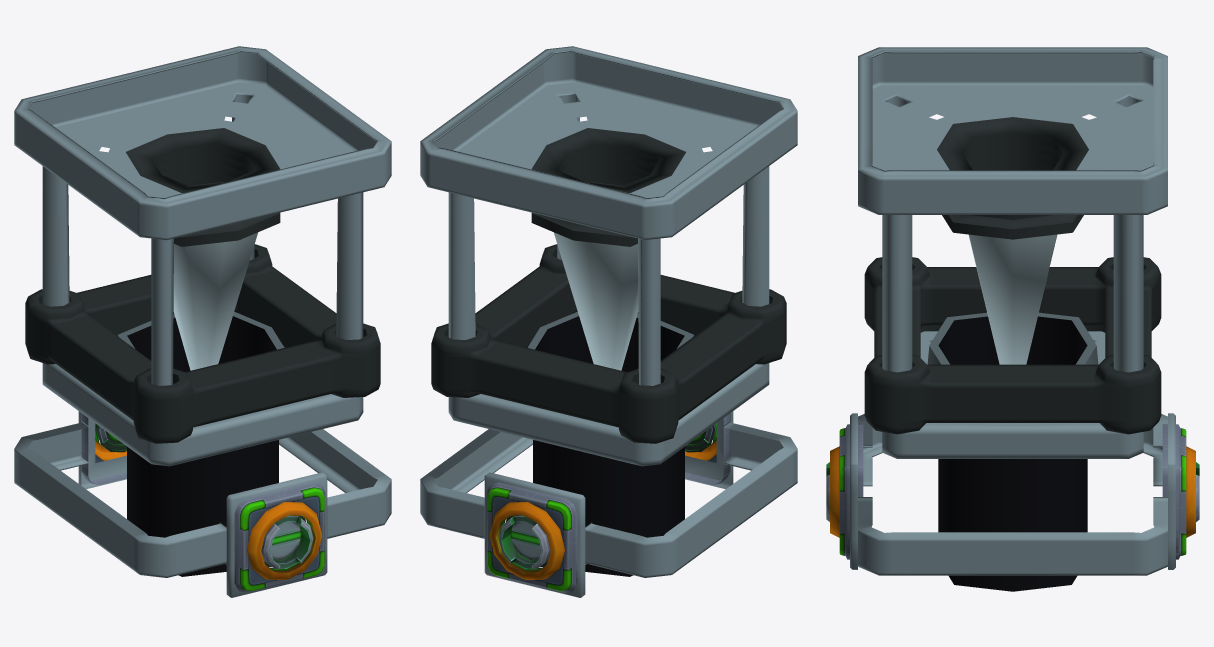
The model's file is fant_miner_2.obj.
The picture shows the model from 3 angles, left to right: view 1: azimuth 30°, elevation 25°; view 2: azimuth 150°, elevation 25°; view 3: azimuth 270°, elevation 25°; orthographic projection. The views are drawn at different scales.
Visible parts, largest first — view 1: fant_miner_Cube.001; view 2: fant_miner_Cube.001; view 3: fant_miner_Cube.001.
Part boxes in pixels (x1,y1,x2,y2): fant_miner_Cube.001: (14,46,391,597); fant_miner_Cube.001: (420,46,797,597); fant_miner_Cube.001: (826,47,1199,591).
Bounding box in the file's own units: 5 × 9 × 6.02.
